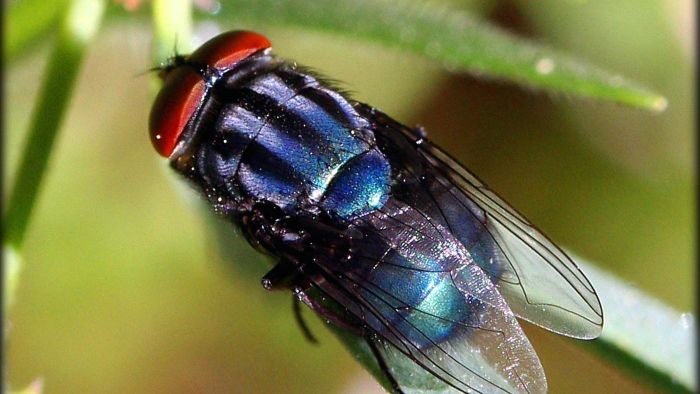house fly: (132, 29, 607, 394)
